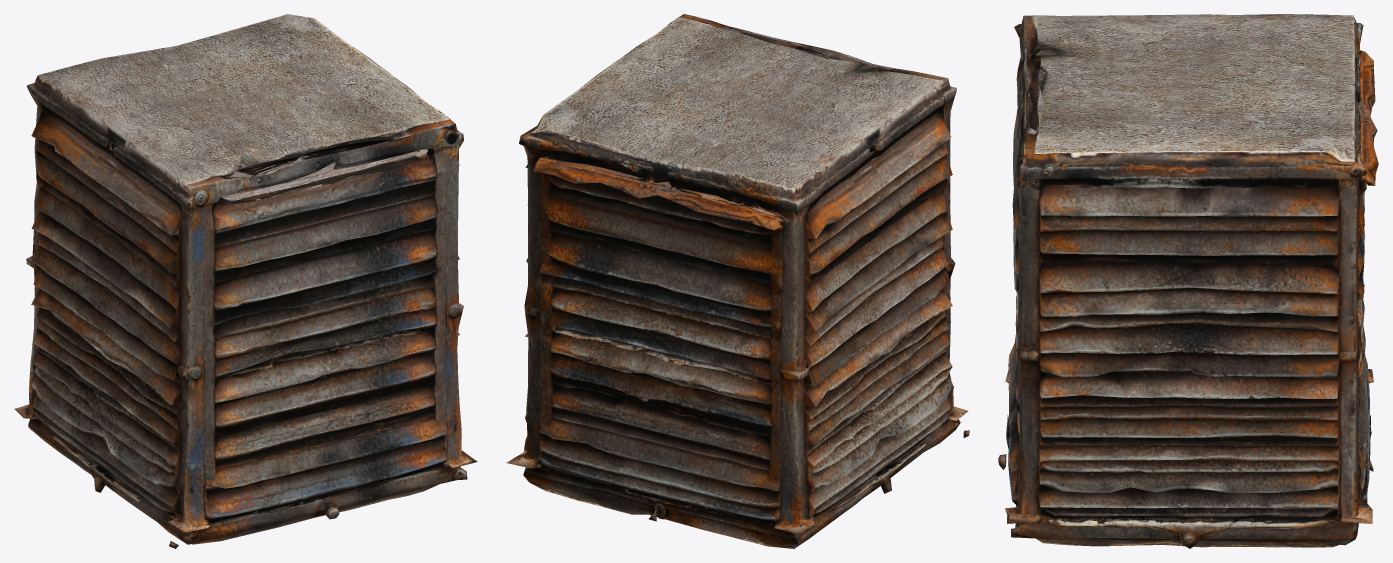
Rendered from BK_VentCover_Damaged.fbx.
The picture shows the model from 3 angles, left to right: view 1: azimuth 30°, elevation 25°; view 2: azimuth 150°, elevation 25°; view 3: azimuth 270°, elevation 25°; orthographic projection. The views are drawn at different scales.
Visible parts, largest first — view 1: texture_mapping; view 2: texture_mapping; view 3: texture_mapping.
Part boxes in pixels (<box>): texture_mapping: <box>14,14,477,548</box>; texture_mapping: <box>506,14,969,548</box>; texture_mapping: <box>998,14,1378,548</box>.
Bounding box in the file's own units: 0.8669 × 0.8631 × 0.9971.
1 material, 1 textured.
